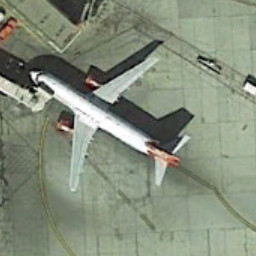Airplane: (22, 46, 199, 210)
